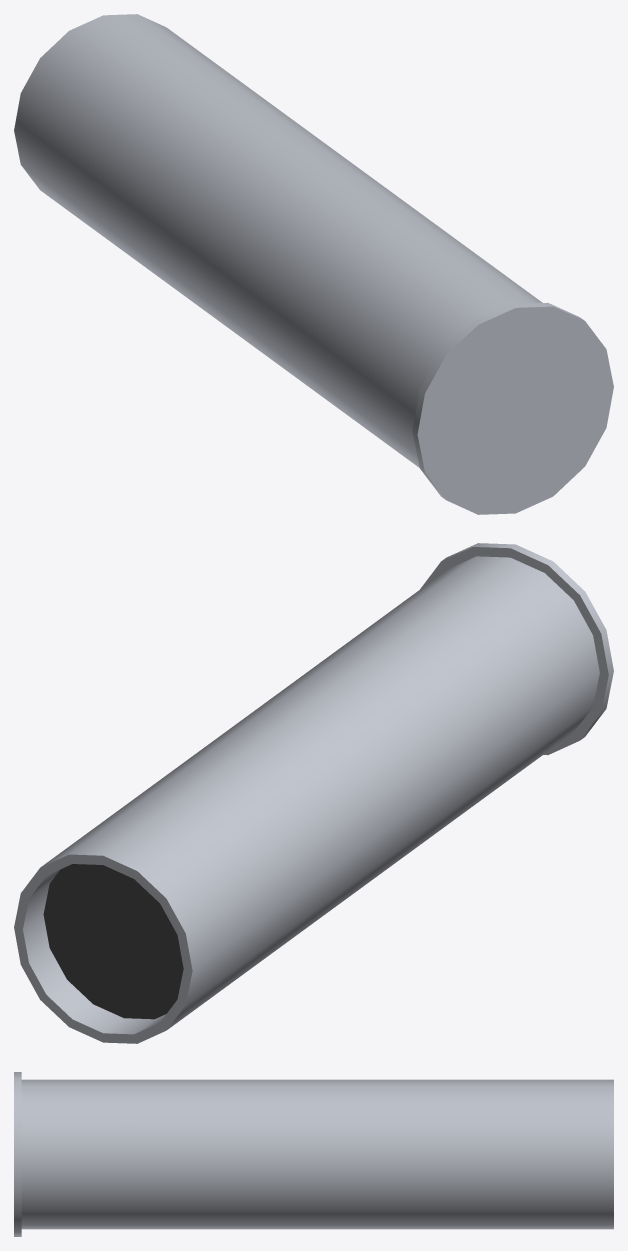
Rendered from kwk44_filled.fbx.
3 views of the same model, one above another, from view 1: azimuth 30°, elevation 25°; view 2: azimuth 150°, elevation 25°; view 3: azimuth 270°, elevation 25° (orthographic). The views are drawn at different scales.
Visible parts, largest first — view 1: Cylinder; view 2: Cylinder; view 3: Cylinder.
Part boxes in pixels (x1,y1,x2,y2): Cylinder: (14, 14, 613, 514); Cylinder: (14, 543, 613, 1043); Cylinder: (14, 1072, 613, 1236).
Bounding box in the file's own units: 110 × 110 × 400.
